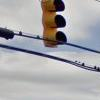Traffic light: (33, 1, 81, 53)
